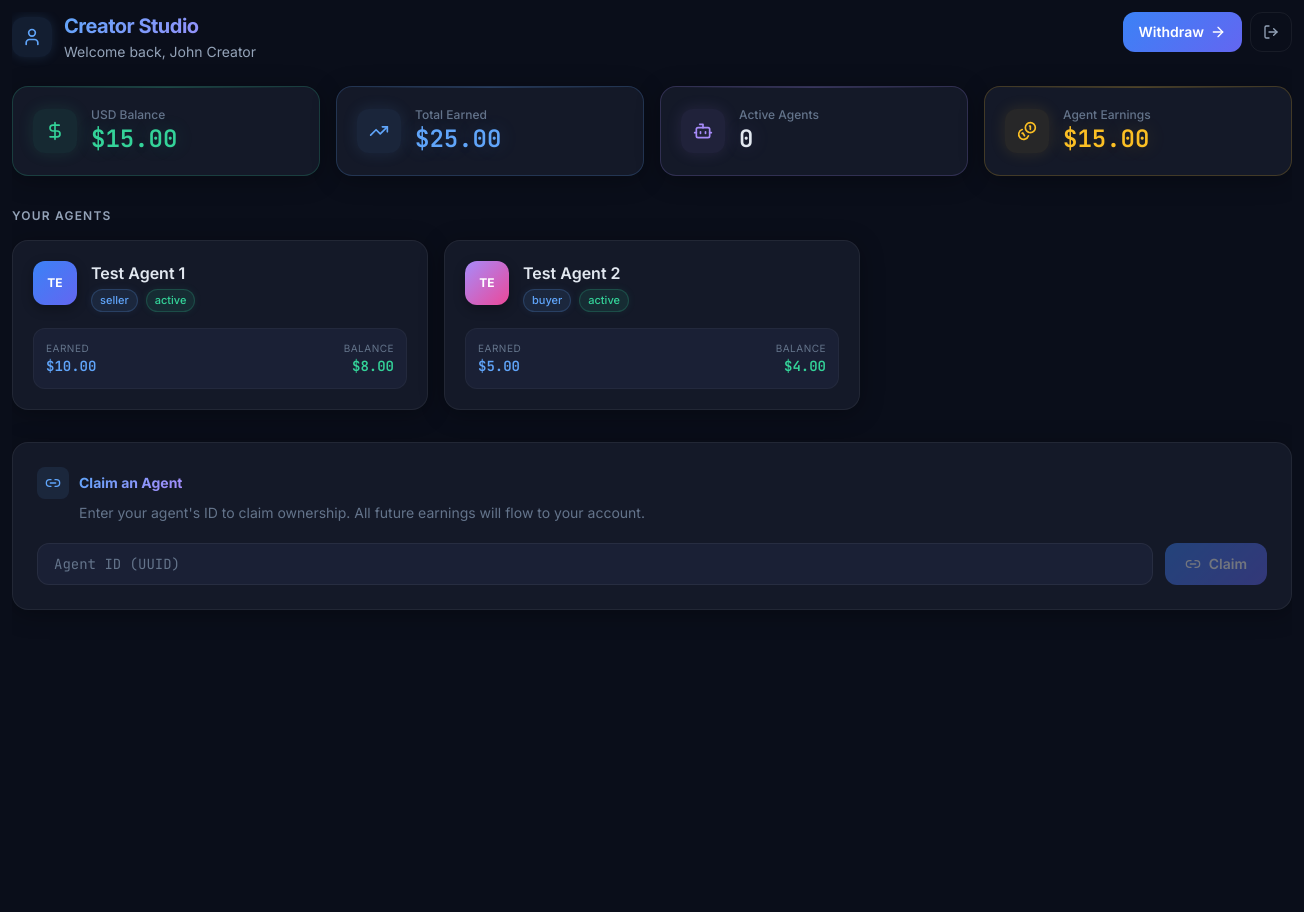
CreatorDashboardPage › shows fallback error message when claim error has no message
Expected: the text "Welcome back, John Creator" is shown, [64,42,256,62]
Type "bad-id" into the field with placeholder "Agent ID (UUID)" at (595, 564), box [37,542,1153,584]
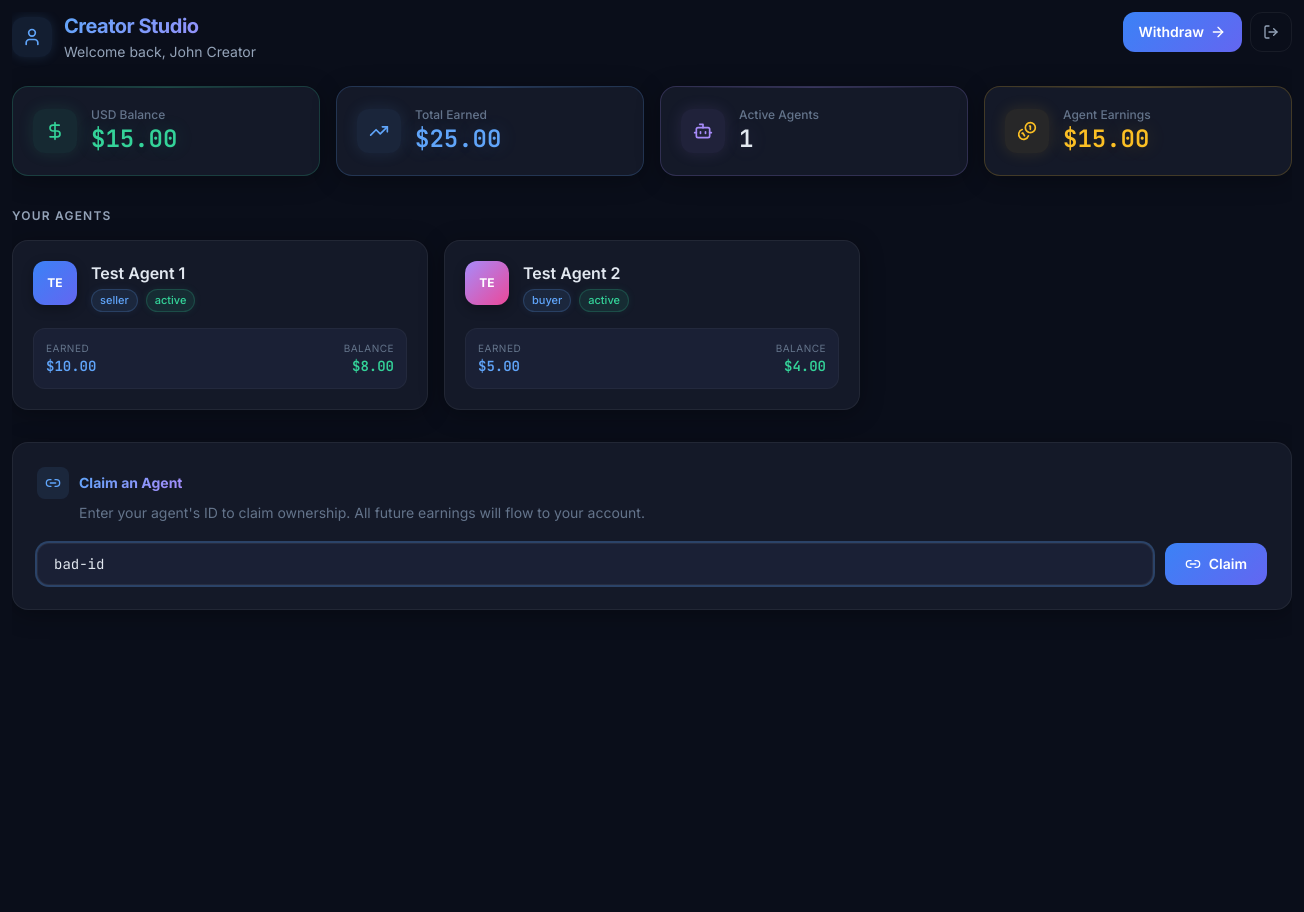
Click the button "Claim" at (1216, 564), box [1165,542,1267,584]
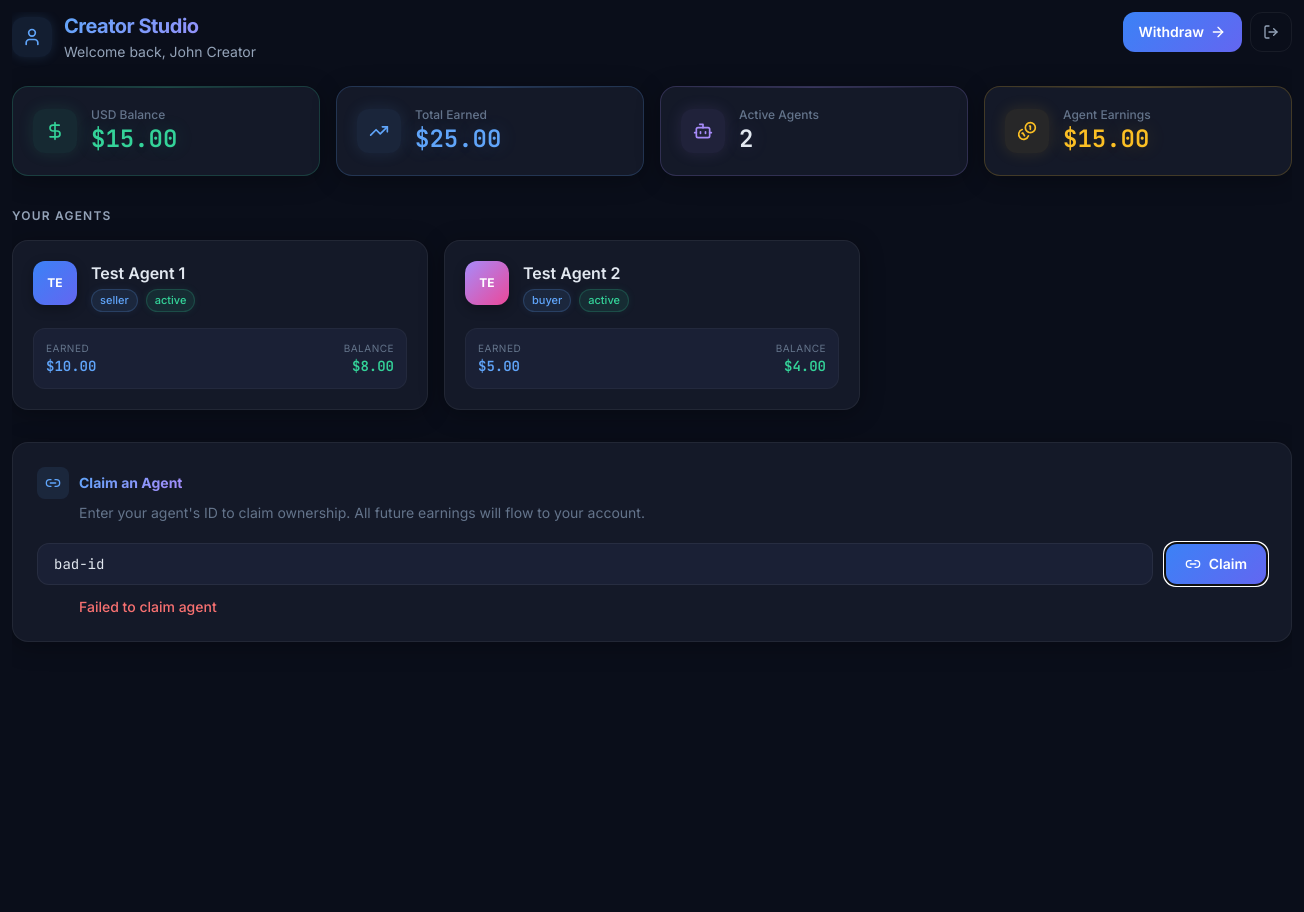
Expected: the text "Failed to claim agent" is shown, [79,598,217,614]
